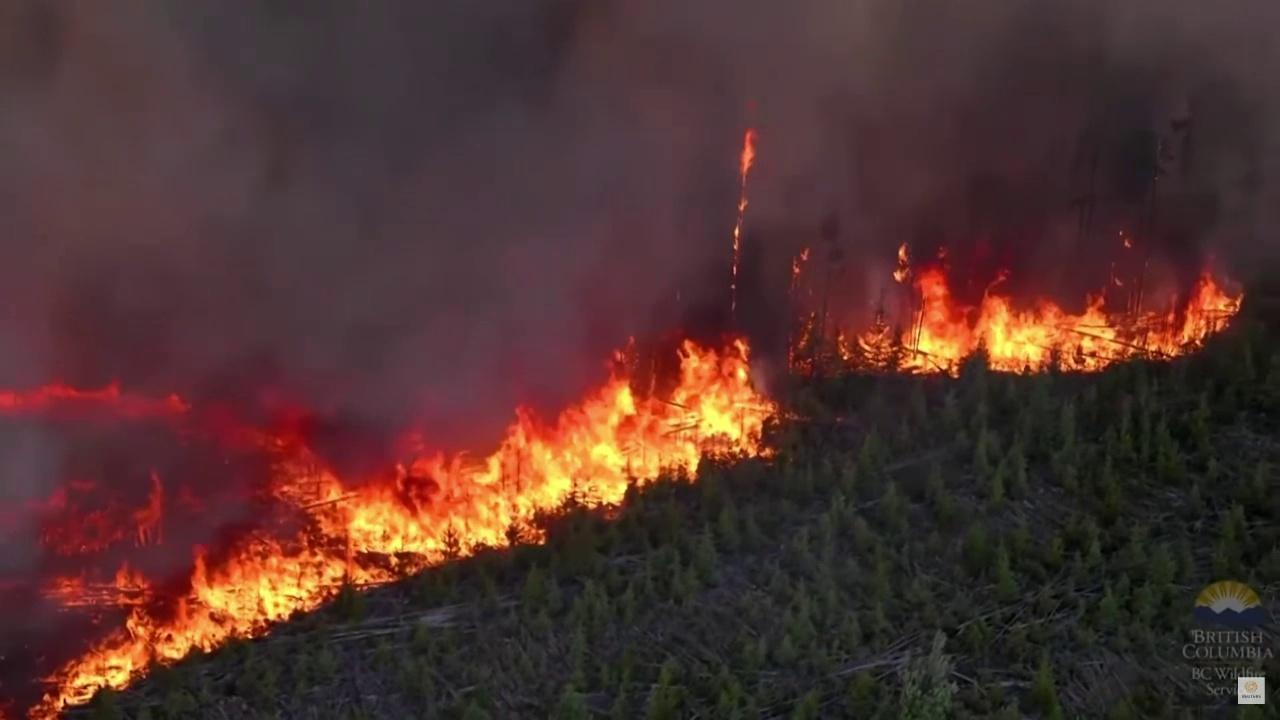fire: (0, 322, 782, 720), (781, 232, 1249, 382), (0, 462, 171, 559), (728, 124, 759, 314)
smoke: (0, 0, 1280, 720)
